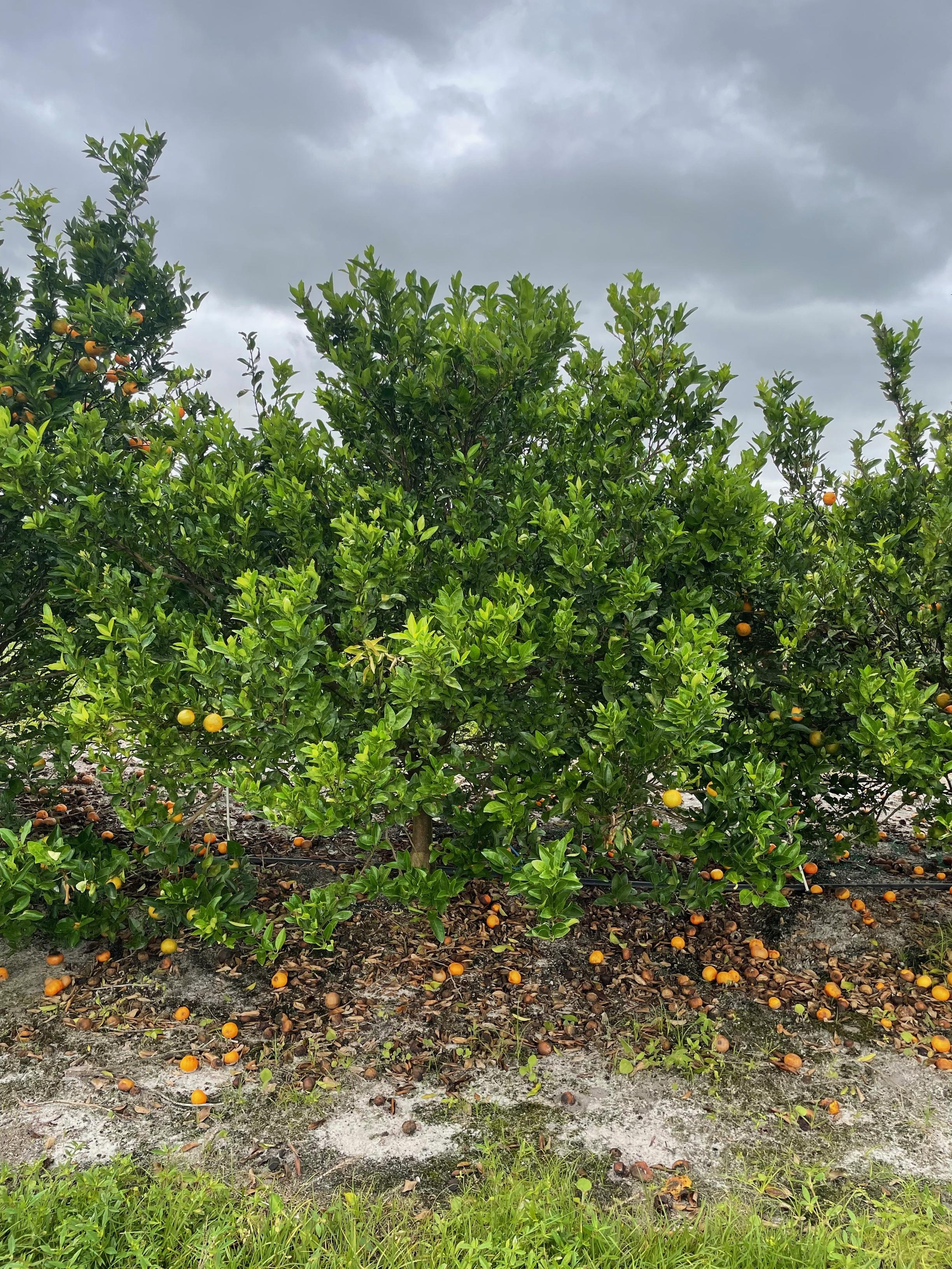fruit_on_ground: (201, 711, 225, 735), (661, 787, 684, 810), (703, 778, 725, 801), (146, 901, 167, 922), (176, 706, 197, 727), (102, 872, 124, 892), (18, 408, 40, 428), (786, 703, 807, 723), (64, 323, 86, 342), (82, 338, 104, 357), (735, 598, 756, 617), (77, 355, 98, 374), (49, 318, 70, 337), (139, 438, 158, 458), (184, 905, 203, 924), (808, 729, 827, 748), (766, 707, 786, 725), (12, 389, 32, 407), (734, 620, 753, 638), (935, 690, 951, 711), (121, 378, 140, 395), (103, 367, 121, 384), (113, 350, 132, 366), (821, 490, 838, 507), (0, 383, 16, 401), (824, 738, 842, 754), (30, 756, 47, 772), (170, 404, 187, 420), (127, 310, 144, 326), (127, 435, 145, 450), (798, 454, 814, 469), (224, 857, 240, 872)
fruit_on_tree: (269, 968, 290, 989), (178, 1053, 199, 1074), (781, 1050, 803, 1070), (717, 967, 740, 985), (930, 1033, 950, 1053), (711, 1033, 731, 1053), (44, 976, 64, 996), (931, 982, 950, 1003), (747, 937, 766, 957), (322, 989, 342, 1008), (158, 935, 178, 954), (822, 979, 842, 998), (483, 911, 503, 930), (188, 1087, 208, 1106), (447, 959, 466, 977), (220, 1021, 239, 1039), (117, 1076, 137, 1093), (914, 972, 934, 989), (536, 1039, 554, 1057), (700, 963, 718, 981), (477, 891, 496, 908), (430, 967, 449, 984), (587, 948, 606, 965), (558, 1089, 576, 1106), (222, 1047, 240, 1064), (173, 1004, 191, 1021), (506, 968, 523, 985), (899, 966, 917, 982), (934, 1056, 952, 1072), (688, 910, 706, 926), (815, 1005, 833, 1021), (45, 951, 64, 966), (721, 919, 738, 935), (741, 964, 759, 979), (668, 933, 686, 948), (95, 947, 112, 962), (802, 860, 819, 875), (161, 798, 176, 814), (766, 947, 781, 963), (298, 837, 315, 851), (191, 841, 208, 855), (488, 899, 503, 914), (768, 995, 783, 1010), (30, 816, 46, 830), (681, 983, 697, 997), (687, 995, 703, 1009), (850, 897, 866, 911), (640, 967, 654, 982), (158, 957, 173, 971), (879, 1015, 894, 1029), (59, 973, 73, 988), (710, 866, 725, 880), (835, 885, 850, 899), (203, 829, 218, 843), (676, 974, 692, 987), (836, 997, 852, 1010), (290, 835, 306, 848), (882, 889, 898, 902), (619, 946, 633, 960), (661, 985, 676, 998), (862, 913, 877, 926), (86, 809, 101, 822), (809, 882, 824, 895), (0, 965, 11, 982), (873, 978, 887, 991), (912, 863, 926, 876), (216, 839, 229, 853), (80, 773, 95, 785), (172, 810, 185, 823), (44, 816, 58, 828), (698, 868, 712, 880), (35, 807, 49, 819), (54, 801, 68, 813), (100, 829, 115, 840), (649, 816, 661, 829), (914, 829, 927, 841), (765, 841, 777, 854), (939, 853, 952, 865), (878, 829, 890, 841), (896, 856, 909, 867), (37, 861, 50, 872), (21, 782, 33, 793), (833, 831, 845, 842), (909, 842, 921, 853), (935, 870, 947, 881), (59, 784, 72, 794), (840, 848, 851, 859), (242, 810, 254, 820), (98, 763, 109, 773), (36, 785, 48, 794)
